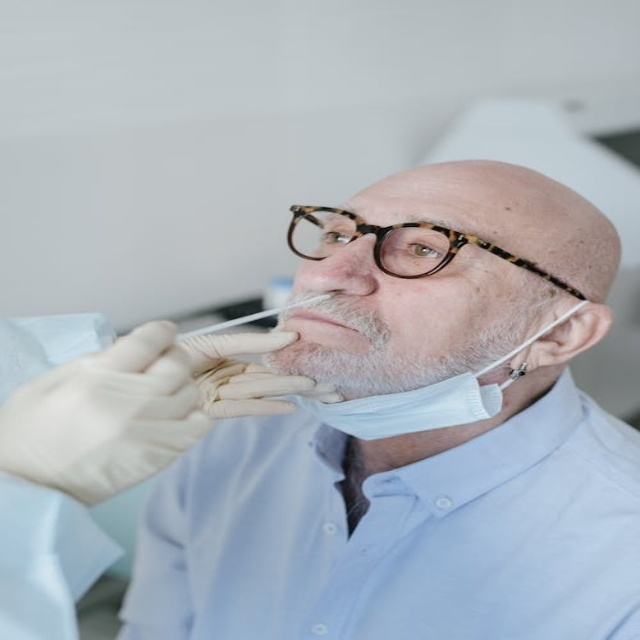Gafas: (288, 206, 587, 302)
Guantes: (0, 320, 314, 507)
Sin_mascara: (270, 301, 424, 387)
